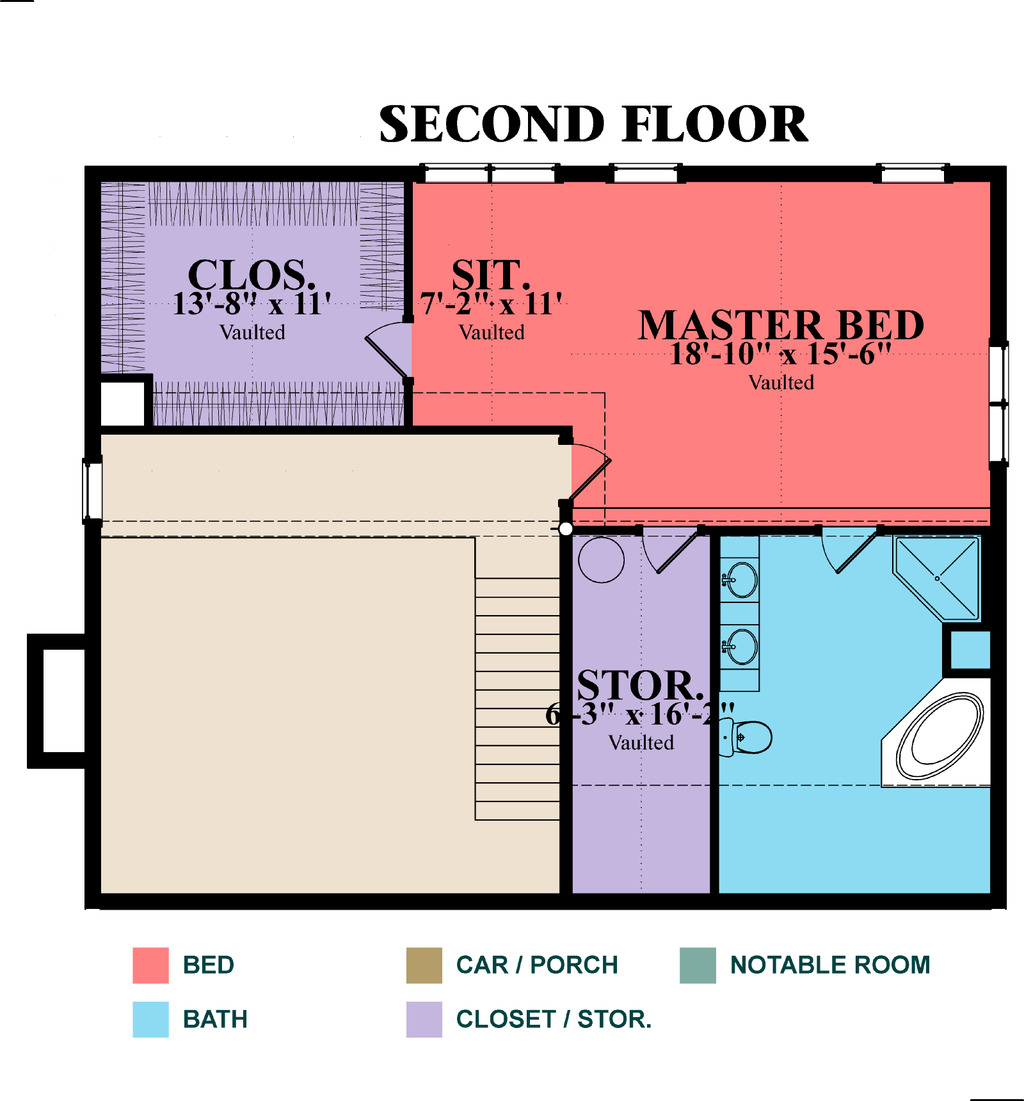door: (794, 501, 878, 584), (547, 432, 626, 517), (359, 317, 435, 396), (626, 508, 692, 584)
large_sink: (714, 701, 797, 763)
small_sink: (707, 520, 768, 691)
stairs: (450, 534, 568, 825)
tub: (873, 648, 1002, 786)
window: (854, 148, 980, 208), (414, 150, 564, 194), (981, 336, 1014, 469), (609, 148, 692, 193)
